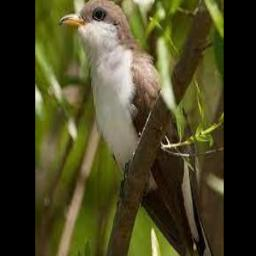Cuckoo: (58, 0, 223, 256)
